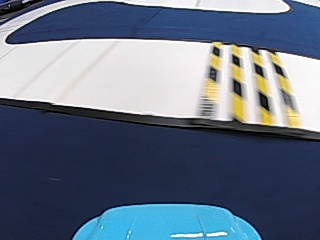bump: (191, 47, 300, 125)
